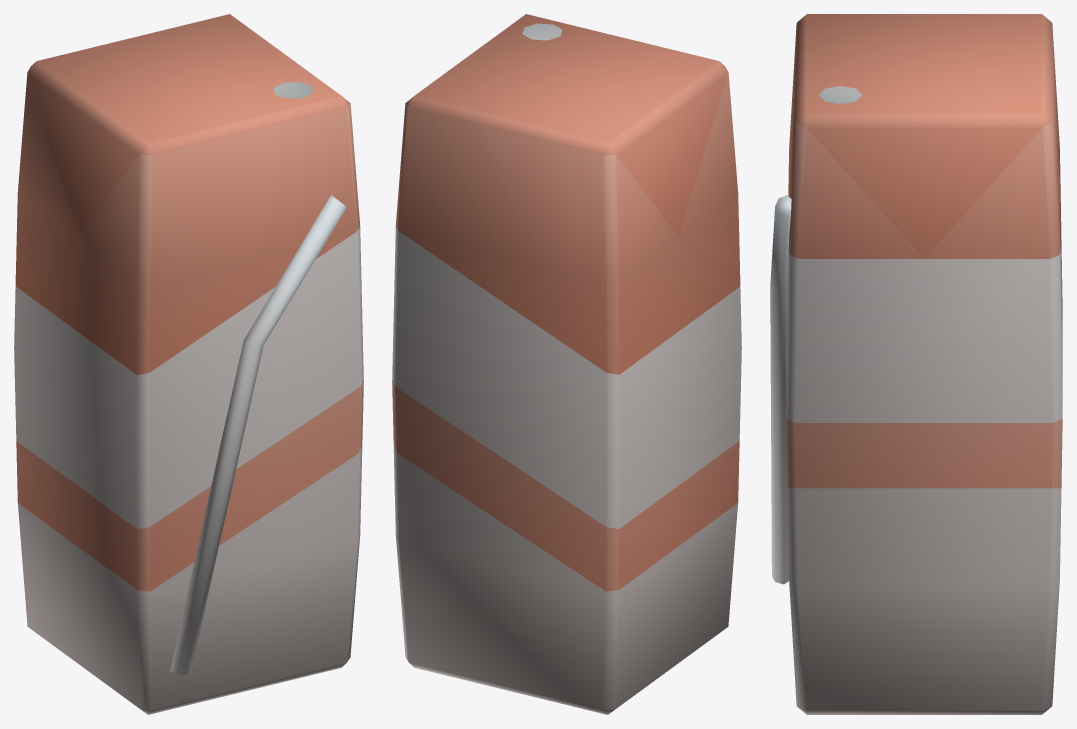
Rendered from milk_004.fbx.
3 renders of one model, left to right at view 1: azimuth 30°, elevation 25°; view 2: azimuth 150°, elevation 25°; view 3: azimuth 270°, elevation 25°, orthographic. The views are drawn at different scales.
Visible parts, largest first — view 1: milk_004; view 2: milk_004; view 3: milk_004.
Boxes of the visible parts, bbox=[...] form: milk_004: bbox=[14, 14, 363, 714]; milk_004: bbox=[392, 14, 741, 714]; milk_004: bbox=[770, 14, 1062, 714].
Bounding box in the file's own units: 4.17 × 4.42 × 10.05.
